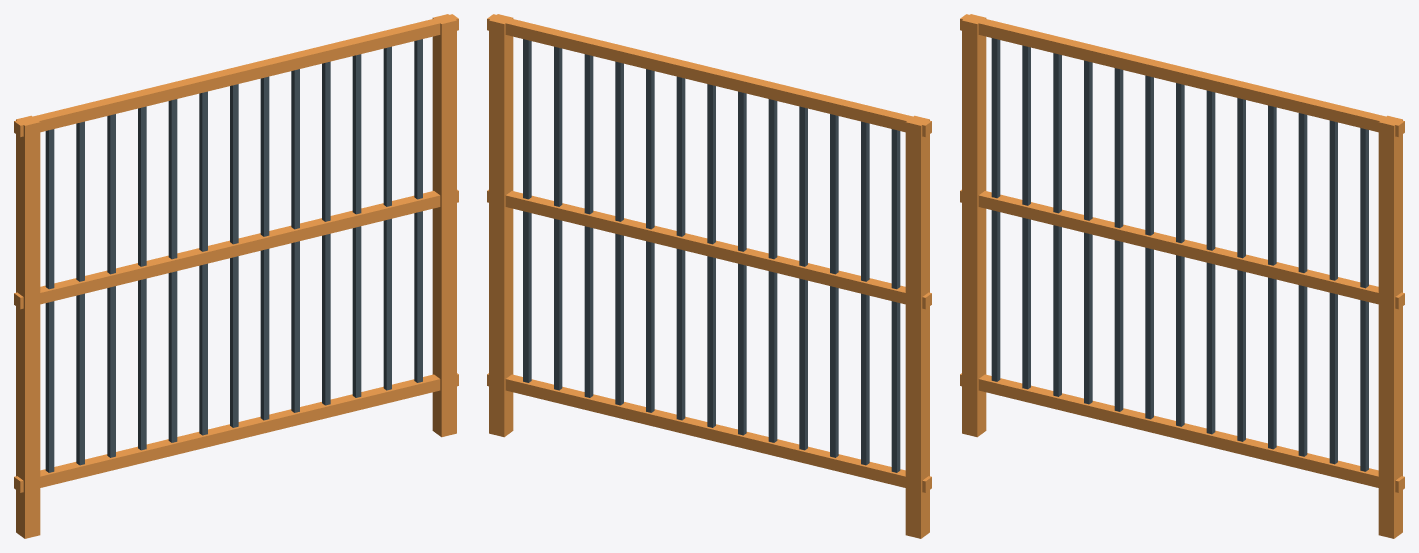
Rendered from machine-safety-fence.glb.
3 views of the same model, side by side, from view 1: azimuth 30°, elevation 25°; view 2: azimuth 150°, elevation 25°; view 3: azimuth 330°, elevation 25° (orthographic).
Visible parts, largest first — view 1: orange, dark; view 2: orange, dark; view 3: orange, dark.
Boxes of the visible parts, x1,y1,x2,y2 form: orange: [14, 14, 458, 538]; dark: [45, 39, 422, 472]; orange: [487, 14, 931, 538]; dark: [523, 39, 900, 472]; orange: [960, 14, 1404, 538]; dark: [991, 38, 1368, 471].
Size of the model in its own units: 2 by 1.8 by 0.0701.
